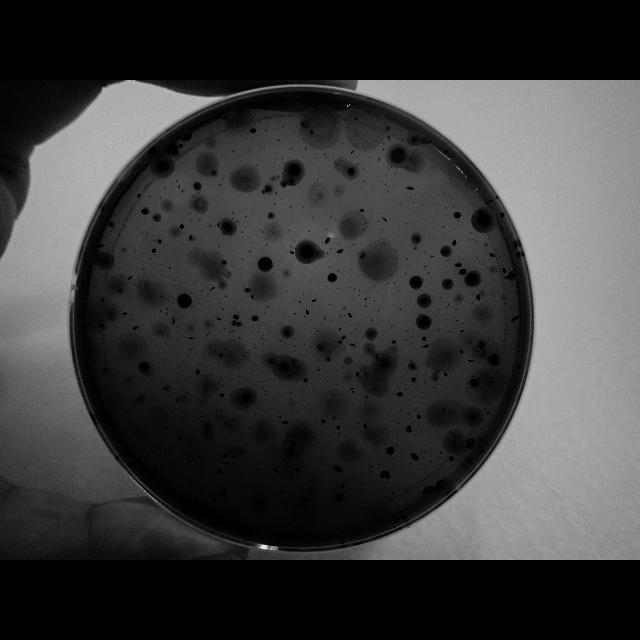colony: (389, 148, 408, 164), (176, 293, 192, 309), (415, 314, 431, 330), (466, 272, 480, 286), (477, 213, 491, 227), (300, 245, 314, 258), (288, 164, 302, 176), (157, 160, 169, 172), (138, 361, 150, 373), (222, 221, 234, 233), (440, 245, 452, 257), (241, 392, 253, 403), (101, 408, 111, 420), (412, 232, 421, 245), (260, 259, 270, 269), (300, 494, 310, 504), (334, 492, 344, 502), (327, 273, 337, 283), (285, 448, 295, 457), (267, 358, 277, 367), (468, 412, 478, 421), (380, 469, 390, 478), (168, 144, 176, 154), (148, 148, 158, 156), (458, 268, 468, 276), (412, 278, 421, 286), (409, 135, 418, 143), (140, 208, 148, 216), (98, 322, 106, 330), (182, 132, 190, 140), (264, 184, 272, 192), (126, 450, 134, 458), (210, 495, 218, 503), (244, 530, 252, 538), (101, 257, 109, 265), (251, 314, 259, 322), (283, 329, 291, 337), (411, 452, 419, 460), (478, 340, 486, 348), (512, 314, 520, 322), (452, 212, 462, 218), (292, 466, 302, 472), (108, 220, 115, 228), (95, 243, 104, 249), (353, 540, 362, 546), (313, 102, 319, 110), (300, 120, 306, 128), (136, 192, 142, 200), (210, 170, 218, 176), (282, 180, 288, 188), (348, 167, 354, 175), (454, 262, 462, 268), (476, 293, 482, 301), (420, 298, 428, 304), (114, 431, 120, 439), (216, 468, 224, 474), (223, 452, 229, 460), (232, 314, 240, 320), (340, 540, 346, 548), (406, 425, 412, 433), (516, 250, 522, 258), (420, 136, 426, 144), (324, 236, 330, 244), (336, 248, 344, 254), (267, 212, 275, 218), (316, 344, 322, 352), (250, 128, 256, 134), (123, 311, 129, 317), (282, 437, 288, 443), (290, 440, 296, 446), (114, 455, 120, 461), (224, 460, 230, 466), (251, 506, 257, 512), (203, 508, 209, 514), (193, 499, 199, 505), (182, 503, 188, 509), (214, 518, 220, 524), (210, 528, 216, 534), (151, 247, 157, 253), (307, 486, 313, 492), (393, 516, 399, 522), (401, 514, 407, 520), (449, 455, 455, 461), (472, 380, 478, 386), (416, 414, 422, 420), (362, 423, 368, 429), (516, 363, 522, 369), (489, 252, 495, 258), (360, 253, 366, 259), (290, 178, 296, 184), (325, 356, 331, 362), (388, 449, 394, 455), (132, 326, 140, 330), (281, 420, 289, 424), (118, 286, 122, 294), (406, 186, 414, 190), (154, 466, 158, 474), (222, 506, 226, 514), (189, 234, 193, 242), (244, 288, 252, 292), (272, 468, 280, 472), (352, 531, 360, 535), (350, 526, 358, 530), (335, 467, 343, 471), (492, 356, 496, 364), (513, 240, 517, 248), (349, 343, 356, 347), (178, 434, 182, 441), (158, 238, 162, 245), (309, 129, 313, 135), (296, 99, 302, 103), (194, 123, 198, 129), (194, 184, 198, 190), (101, 205, 105, 211), (84, 252, 88, 258), (86, 276, 90, 282), (196, 369, 200, 375), (220, 392, 224, 398), (294, 454, 300, 458), (176, 397, 180, 403), (104, 367, 108, 373), (87, 348, 93, 352), (178, 144, 184, 148), (452, 240, 456, 246), (120, 442, 124, 448), (120, 452, 124, 458), (160, 475, 164, 481), (196, 455, 202, 459), (186, 459, 192, 463), (230, 462, 236, 466), (222, 489, 226, 495), (255, 530, 261, 534), (180, 223, 184, 229), (222, 260, 228, 264), (236, 322, 242, 326), (232, 320, 236, 326), (292, 516, 296, 522), (298, 532, 304, 536), (424, 486, 428, 492), (428, 490, 434, 494), (438, 480, 444, 484), (336, 424, 340, 430), (459, 348, 463, 354), (502, 268, 506, 274), (511, 272, 517, 276), (500, 212, 504, 218), (478, 209, 484, 213), (495, 194, 499, 200), (426, 140, 432, 144), (354, 117, 360, 121), (341, 482, 345, 488), (188, 336, 194, 340), (289, 250, 295, 254), (311, 299, 317, 303), (305, 309, 309, 315), (348, 312, 352, 318), (422, 336, 426, 342), (423, 344, 429, 348), (397, 392, 403, 396), (102, 296, 105, 302), (225, 421, 228, 427), (250, 294, 253, 300), (82, 296, 86, 300), (304, 378, 308, 382), (283, 364, 287, 368), (128, 276, 132, 280), (261, 190, 265, 194), (342, 336, 346, 340), (128, 462, 132, 466), (136, 458, 140, 462), (404, 519, 408, 523), (435, 486, 439, 490), (468, 458, 472, 462), (465, 444, 469, 448), (478, 438, 482, 442), (480, 449, 484, 453), (444, 372, 448, 376), (412, 378, 416, 382), (442, 408, 446, 412), (521, 252, 525, 256), (444, 150, 448, 154), (483, 440, 487, 444), (386, 126, 390, 130), (168, 266, 172, 270), (392, 340, 396, 344), (317, 368, 321, 372), (172, 320, 175, 324), (148, 195, 152, 198), (351, 150, 354, 154), (217, 222, 219, 228), (208, 225, 212, 228), (338, 530, 344, 532), (486, 411, 489, 415), (366, 394, 368, 400), (320, 420, 326, 422), (446, 424, 449, 428), (468, 360, 474, 362), (504, 276, 510, 278), (388, 134, 390, 140), (212, 286, 215, 290), (216, 318, 222, 320), (376, 354, 378, 360), (356, 371, 358, 377), (230, 217, 233, 220), (240, 230, 243, 233), (84, 258, 86, 262), (166, 312, 168, 316), (207, 334, 209, 338), (220, 378, 222, 382), (278, 369, 282, 371), (163, 388, 167, 390), (142, 268, 146, 270), (218, 184, 222, 186), (278, 138, 280, 142), (264, 116, 268, 118), (382, 148, 384, 152), (492, 295, 496, 297), (364, 298, 368, 300), (364, 304, 368, 306), (140, 232, 144, 234), (187, 212, 191, 214), (199, 218, 201, 222), (190, 218, 192, 222), (248, 250, 252, 252), (274, 432, 278, 434), (389, 520, 393, 522), (436, 482, 438, 486), (470, 442, 472, 446), (478, 446, 482, 448), (400, 408, 402, 412), (333, 416, 335, 420), (318, 459, 322, 461), (330, 393, 334, 395), (350, 388, 354, 390), (512, 384, 514, 388), (475, 350, 479, 352), (460, 330, 464, 332), (489, 200, 493, 202), (486, 202, 488, 206), (305, 146, 307, 150), (189, 144, 191, 148), (506, 332, 508, 336), (194, 280, 196, 284), (238, 336, 242, 338), (394, 250, 398, 252), (299, 300, 301, 304), (340, 314, 342, 318), (339, 327, 341, 331), (324, 316, 326, 320), (281, 156, 283, 160), (268, 371, 270, 374), (124, 225, 126, 228), (118, 220, 120, 223), (250, 242, 253, 244), (341, 537, 344, 539), (401, 510, 404, 512), (431, 461, 434, 463), (327, 461, 329, 464), (352, 391, 354, 394), (371, 471, 373, 474), (371, 481, 373, 484), (384, 486, 386, 489), (166, 336, 168, 339), (202, 252, 204, 255), (131, 319, 133, 321), (184, 294, 186, 296), (180, 298, 182, 300), (191, 306, 193, 308), (166, 308, 168, 310), (160, 309, 162, 311), (159, 310, 161, 312), (172, 318, 174, 320), (189, 327, 191, 329), (196, 320, 198, 322), (207, 324, 209, 326), (210, 346, 212, 348), (208, 347, 210, 349), (190, 349, 192, 351), (186, 356, 188, 358), (178, 357, 180, 359), (178, 366, 180, 368), (206, 375, 208, 377), (210, 373, 212, 375), (220, 372, 222, 374), (221, 385, 223, 387), (212, 385, 214, 387), (216, 388, 218, 390), (196, 407, 198, 409), (201, 415, 203, 417), (198, 419, 200, 421), (218, 417, 220, 419), (220, 410, 222, 412), (215, 409, 217, 411), (232, 418, 234, 420), (231, 424, 233, 426), (218, 434, 220, 436), (248, 426, 250, 428), (240, 433, 242, 435), (255, 413, 257, 415), (263, 422, 265, 424), (266, 434, 268, 436), (279, 416, 281, 418), (291, 397, 293, 399), (300, 391, 302, 393), (314, 404, 316, 406), (304, 407, 306, 409), (290, 391, 292, 393), (265, 380, 267, 382), (258, 380, 260, 382), (258, 386, 260, 388), (262, 387, 264, 389), (264, 391, 266, 393), (264, 393, 266, 395), (109, 269, 111, 271), (104, 277, 106, 279), (120, 275, 122, 277), (125, 276, 127, 278), (134, 284, 136, 286), (150, 258, 152, 260), (117, 256, 119, 258), (107, 248, 109, 250), (133, 249, 135, 251), (134, 252, 136, 254), (142, 254, 144, 256), (118, 234, 120, 236), (164, 187, 166, 189), (159, 197, 161, 199), (176, 180, 178, 182), (171, 183, 173, 185), (179, 184, 181, 186), (178, 186, 180, 188), (182, 190, 184, 192), (198, 192, 200, 194), (245, 137, 247, 139), (232, 150, 234, 152), (244, 146, 246, 148), (248, 149, 250, 151), (259, 146, 261, 148), (249, 147, 251, 149), (247, 152, 249, 154), (237, 157, 239, 159), (221, 178, 223, 180), (239, 184, 241, 186), (247, 186, 249, 188), (275, 191, 277, 193), (276, 193, 278, 195), (278, 180, 280, 182), (298, 176, 300, 178), (283, 163, 285, 165), (322, 176, 324, 178), (316, 178, 318, 180), (290, 148, 292, 150), (255, 113, 257, 115), (268, 117, 270, 119), (355, 145, 357, 147), (365, 150, 367, 152), (378, 158, 380, 160), (363, 168, 365, 170), (357, 163, 359, 165), (387, 167, 389, 169), (391, 166, 393, 168), (394, 173, 396, 175), (376, 176, 378, 178), (385, 183, 387, 185), (387, 190, 389, 192), (364, 181, 366, 183), (354, 182, 356, 184), (409, 197, 411, 199), (400, 203, 402, 205), (423, 203, 425, 205), (452, 206, 454, 208), (445, 207, 447, 209), (457, 220, 459, 222), (443, 226, 445, 228), (470, 232, 472, 234), (469, 237, 471, 239), (472, 239, 474, 241), (476, 240, 478, 242), (462, 250, 464, 252), (474, 293, 476, 295), (489, 292, 491, 294), (472, 294, 474, 296), (471, 302, 473, 304), (448, 303, 450, 305), (455, 308, 457, 310), (446, 306, 448, 308), (440, 296, 442, 298), (437, 309, 439, 311), (431, 298, 433, 300), (429, 300, 431, 302), (420, 290, 422, 292), (423, 277, 425, 279), (427, 272, 429, 274), (424, 266, 426, 268), (425, 268, 427, 270), (407, 264, 409, 266), (405, 273, 407, 275), (394, 282, 396, 284), (387, 282, 389, 284), (391, 294, 393, 296), (373, 286, 375, 288), (365, 292, 367, 294), (358, 289, 360, 291), (353, 288, 355, 290), (349, 286, 351, 288), (369, 297, 371, 299), (374, 300, 376, 302), (378, 309, 380, 311), (371, 319, 373, 321), (354, 347, 356, 349), (304, 344, 306, 346), (294, 345, 296, 347), (265, 338, 267, 340), (262, 335, 264, 337), (261, 337, 263, 339), (254, 343, 256, 345), (255, 347, 257, 349), (251, 369, 253, 371), (187, 392, 189, 394), (123, 248, 125, 250), (177, 228, 179, 230), (175, 231, 177, 233), (232, 212, 234, 214), (245, 216, 247, 218), (236, 220, 238, 222), (238, 222, 240, 224), (244, 226, 246, 228), (242, 258, 244, 260), (228, 257, 230, 259), (243, 285, 245, 287), (254, 290, 256, 292), (256, 297, 258, 299), (276, 295, 278, 297), (286, 290, 288, 292), (266, 306, 268, 308), (264, 311, 266, 313), (280, 339, 282, 341), (285, 432, 287, 434), (339, 535, 341, 537), (399, 511, 401, 513), (440, 452, 442, 454), (453, 447, 455, 449), (505, 412, 507, 414), (462, 423, 464, 425), (457, 402, 459, 404), (484, 408, 486, 410), (482, 388, 484, 390), (466, 382, 468, 384), (466, 387, 468, 389), (459, 388, 461, 390), (453, 381, 455, 383), (441, 389, 443, 391), (424, 381, 426, 383), (425, 375, 427, 377), (414, 386, 416, 388), (405, 384, 407, 386), (402, 383, 404, 385), (384, 408, 386, 410), (408, 413, 410, 415), (418, 421, 420, 423), (410, 423, 412, 425), (417, 424, 419, 426), (397, 434, 399, 436), (397, 422, 399, 424), (389, 420, 391, 422), (384, 427, 386, 429), (369, 428, 371, 430), (344, 435, 346, 437), (338, 432, 340, 434), (333, 432, 335, 434), (315, 421, 317, 423), (323, 463, 325, 465), (310, 424, 312, 426), (435, 431, 437, 433), (498, 386, 500, 388), (508, 393, 510, 395), (469, 342, 471, 344), (487, 339, 489, 341), (497, 348, 499, 350), (468, 333, 470, 335), (449, 331, 451, 333), (438, 329, 440, 331), (435, 316, 437, 318), (399, 308, 401, 310), (476, 257, 478, 259), (501, 264, 503, 266), (496, 271, 498, 273), (504, 302, 506, 304), (510, 306, 512, 308), (472, 215, 474, 217), (265, 129, 267, 131), (282, 126, 284, 128), (220, 156, 222, 158), (211, 131, 213, 133), (388, 470, 390, 472), (370, 466, 372, 468), (377, 464, 379, 466), (367, 469, 369, 471), (392, 492, 394, 494), (424, 450, 426, 452), (511, 348, 513, 350), (515, 330, 517, 332), (518, 332, 520, 334), (516, 326, 518, 328), (514, 291, 516, 293), (511, 285, 513, 287), (482, 293, 484, 295), (500, 230, 502, 232), (291, 130, 293, 132), (197, 201, 199, 203), (193, 195, 195, 197), (160, 263, 162, 265), (161, 274, 163, 276), (174, 279, 176, 281), (183, 278, 185, 280), (178, 284, 180, 286), (190, 292, 192, 294), (210, 289, 212, 291), (201, 290, 203, 292), (199, 302, 201, 304), (193, 305, 195, 307), (176, 326, 178, 328), (159, 330, 161, 332), (165, 342, 167, 344), (139, 344, 141, 346), (160, 294, 162, 296), (160, 296, 162, 298), (225, 295, 227, 297), (218, 303, 220, 305), (222, 308, 224, 310), (224, 328, 226, 330), (229, 331, 231, 333), (232, 330, 234, 332), (257, 279, 259, 281), (266, 244, 268, 246), (266, 239, 268, 241), (326, 252, 328, 254), (329, 247, 331, 249), (322, 241, 324, 243), (339, 242, 341, 244), (353, 244, 355, 246), (329, 266, 331, 268), (390, 274, 392, 276), (406, 258, 408, 260), (414, 248, 416, 250), (424, 251, 426, 253), (430, 256, 432, 258), (432, 255, 434, 257), (446, 257, 448, 259), (448, 258, 450, 260), (446, 260, 448, 262), (294, 313, 296, 315), (304, 315, 306, 317), (302, 294, 304, 296), (329, 303, 331, 305), (343, 307, 345, 309), (344, 315, 346, 317), (335, 326, 337, 328), (316, 329, 318, 331), (318, 333, 320, 335), (372, 361, 374, 363), (378, 369, 380, 371), (421, 345, 423, 347), (434, 351, 436, 353), (444, 349, 446, 351), (324, 154, 326, 156), (256, 165, 258, 167), (275, 158, 277, 160), (273, 203, 275, 205), (289, 206, 291, 208), (292, 206, 294, 208), (303, 206, 305, 208), (314, 201, 316, 203), (308, 213, 310, 215), (312, 217, 314, 219), (275, 222, 277, 224), (259, 229, 261, 231), (263, 231, 265, 233), (288, 229, 290, 231), (308, 230, 310, 232), (218, 245, 220, 247), (212, 277, 214, 279), (140, 306, 142, 308), (326, 381, 328, 383), (335, 383, 337, 385), (391, 324, 393, 326), (443, 233, 445, 235), (405, 222, 407, 224), (391, 468, 393, 470), (372, 448, 374, 450), (378, 434, 380, 436), (422, 397, 424, 399), (414, 352, 416, 354), (410, 360, 412, 362), (392, 349, 394, 351), (173, 302, 174, 304), (208, 352, 210, 353), (216, 352, 217, 354), (203, 357, 204, 359), (214, 362, 216, 363), (251, 427, 253, 428), (232, 387, 234, 388), (114, 256, 115, 258), (111, 256, 112, 258), (342, 142, 343, 144), (397, 290, 398, 292), (362, 286, 363, 288), (355, 328, 357, 329), (354, 342, 356, 343), (346, 341, 348, 342), (247, 352, 249, 353), (260, 357, 262, 358), (194, 391, 196, 392), (216, 226, 217, 228), (296, 421, 298, 422), (427, 467, 428, 469), (427, 474, 428, 476), (483, 418, 485, 419), (484, 397, 486, 398), (447, 387, 448, 389), (434, 387, 436, 388), (405, 388, 407, 389), (399, 388, 401, 389), (384, 391, 386, 392), (387, 402, 388, 404), (386, 427, 388, 428), (379, 432, 381, 433), (334, 418, 336, 419), (491, 368, 492, 370), (508, 234, 509, 236), (442, 471, 444, 472), (351, 269, 352, 271), (331, 266, 332, 268), (342, 280, 343, 282), (421, 241, 422, 243), (357, 358, 359, 359), (358, 375, 359, 377), (378, 380, 379, 382), (372, 379, 373, 381), (371, 341, 373, 342), (403, 338, 405, 339), (407, 339, 408, 341), (410, 337, 412, 338), (482, 328, 483, 330), (226, 364, 227, 366), (332, 384, 333, 386), (314, 341, 316, 342), (397, 444, 398, 446), (223, 348, 224, 349), (438, 203, 439, 204), (362, 337, 363, 338), (437, 478, 438, 479), (357, 422, 358, 423), (321, 431, 322, 432), (481, 428, 482, 429), (371, 338, 372, 339), (471, 377, 472, 378), (397, 447, 398, 448), (308, 133, 308, 135), (182, 316, 182, 318), (208, 332, 208, 332), (214, 350, 216, 350), (202, 362, 204, 362), (188, 366, 188, 368), (204, 400, 206, 400), (258, 428, 258, 430), (302, 388, 304, 388), (306, 386, 306, 388), (120, 310, 120, 312), (318, 182, 318, 184), (314, 182, 314, 184), (260, 122, 260, 124), (370, 156, 370, 158), (386, 174, 386, 176), (384, 164, 384, 166), (388, 170, 389, 170), (395, 172, 397, 172), (414, 201, 414, 203), (360, 296, 360, 296), (353, 298, 355, 298), (343, 350, 345, 350), (344, 346, 346, 346), (294, 350, 296, 350), (264, 342, 264, 343), (250, 350, 250, 352), (242, 356, 244, 356), (250, 361, 250, 362), (242, 373, 242, 375), (238, 376, 240, 376), (280, 356, 282, 356), (292, 404, 292, 406), (410, 463, 410, 465), (424, 478, 426, 478), (437, 470, 439, 470), (411, 378, 412, 378), (396, 394, 396, 396), (378, 388, 380, 388), (380, 390, 380, 392), (368, 396, 369, 396), (414, 408, 416, 408), (372, 433, 372, 435), (362, 416, 362, 418), (358, 421, 358, 423), (352, 426, 352, 426), (364, 435, 364, 437), (340, 418, 340, 420), (320, 448, 320, 450), (328, 410, 328, 410), (364, 402, 366, 402), (354, 408, 354, 408), (352, 404, 352, 404), (376, 408, 376, 409), (370, 410, 370, 410), (392, 412, 392, 412), (398, 414, 398, 416), (470, 424, 472, 424), (484, 353, 484, 355), (488, 334, 488, 336), (462, 328, 462, 328), (462, 322, 462, 324), (456, 320, 458, 320), (482, 264, 483, 264), (500, 256, 500, 258), (497, 258, 498, 258), (528, 268, 528, 268), (504, 308, 504, 310), (496, 202, 496, 204), (439, 458, 441, 458), (142, 336, 142, 336), (290, 245, 290, 247), (292, 246, 292, 248), (296, 248, 296, 250), (294, 240, 294, 242), (280, 242, 280, 242), (318, 248, 318, 250), (338, 269, 338, 271), (326, 285, 326, 287), (338, 287, 338, 289), (331, 320, 333, 320), (314, 328, 316, 328), (324, 334, 324, 336), (376, 369, 376, 371), (397, 340, 398, 340), (407, 330, 409, 330), (472, 376, 474, 376), (484, 326, 484, 328), (474, 312, 474, 314), (326, 156, 326, 158), (296, 233, 296, 235), (274, 226, 274, 228), (186, 396, 188, 396), (190, 394, 190, 394), (182, 390, 182, 390), (132, 376, 132, 376), (142, 377, 142, 379), (344, 376, 344, 378), (342, 366, 342, 368), (394, 458, 394, 459), (385, 448, 387, 448), (384, 444, 386, 444), (380, 442, 380, 443), (360, 411, 360, 412), (392, 394, 393, 394), (410, 348, 412, 348)
